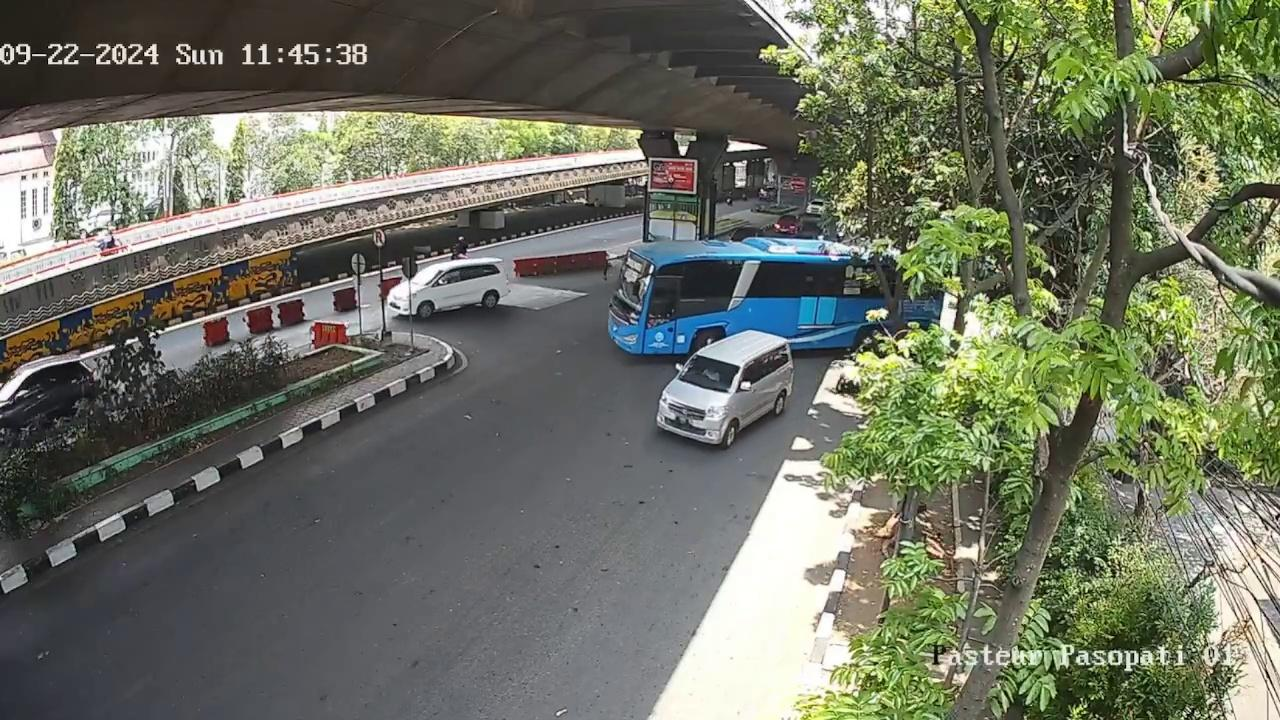tidak-pakai: (700, 366, 721, 381)
windshield: (676, 356, 741, 392)
